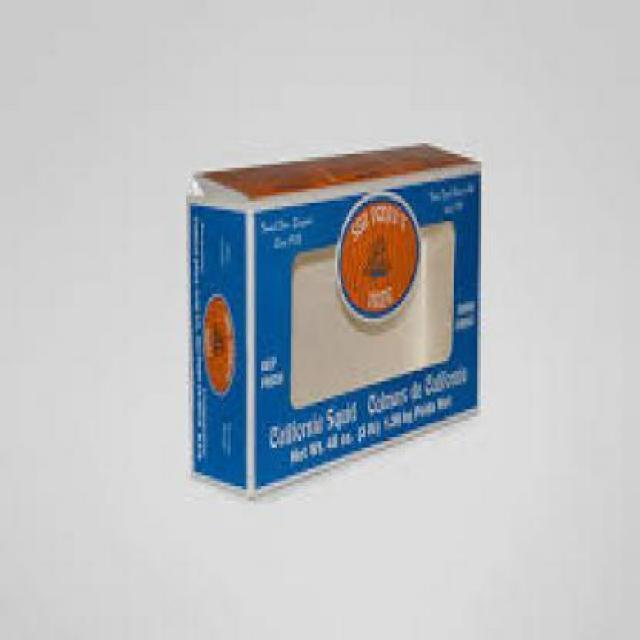box: (186, 140, 477, 497)
